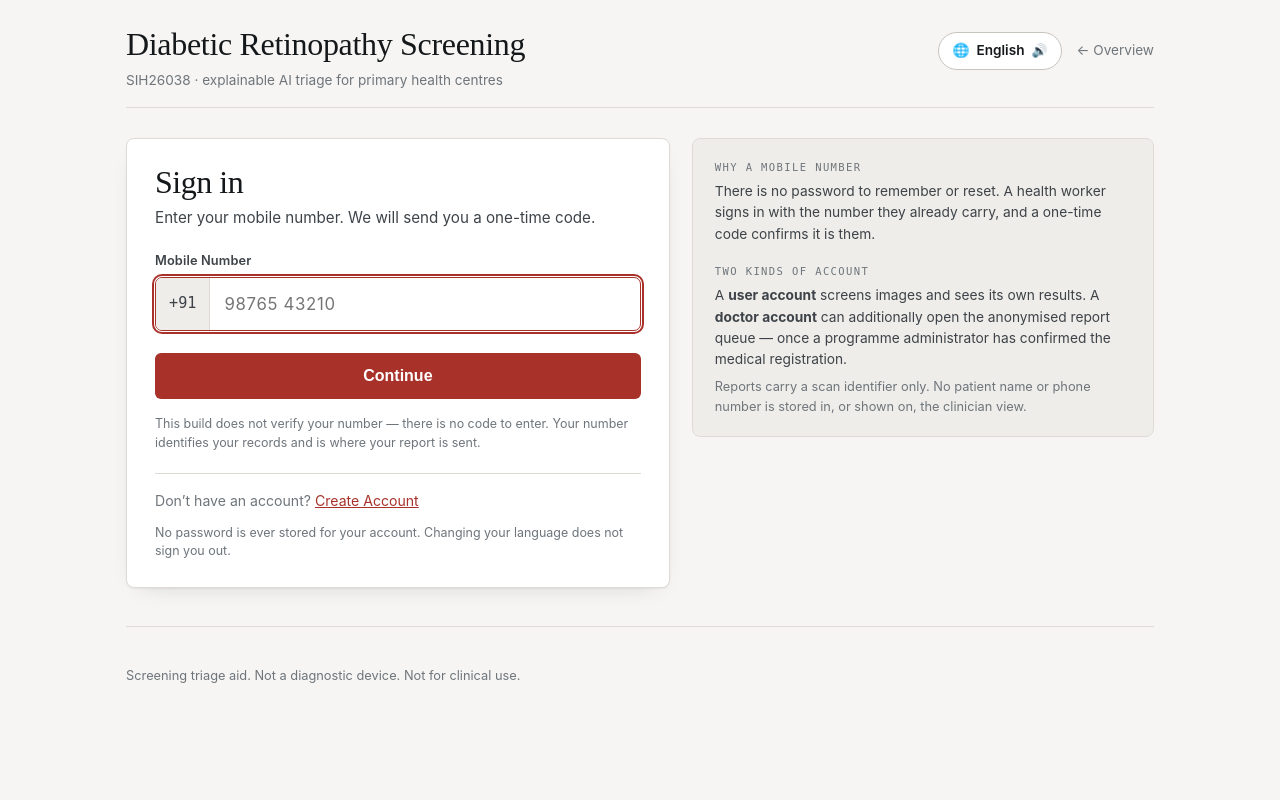
error states › says the backend is unreachable when the request cannot connect
The width and height of the screenshot is (1280, 800).
Type "9876543210" into the field with placeholder "98765 43210" at [425, 304], box [210,278,640,330]
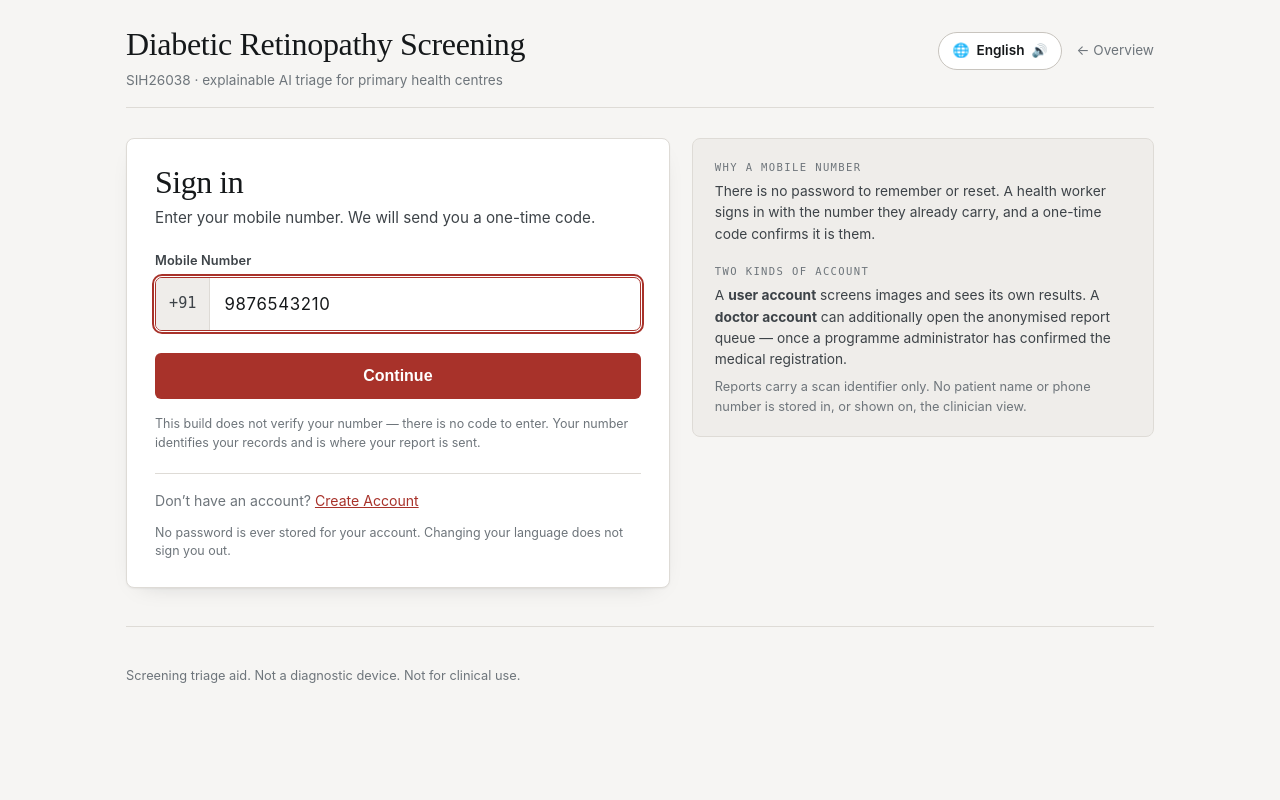
Click the button "Continue" at [398, 376], box [155,353,641,399]
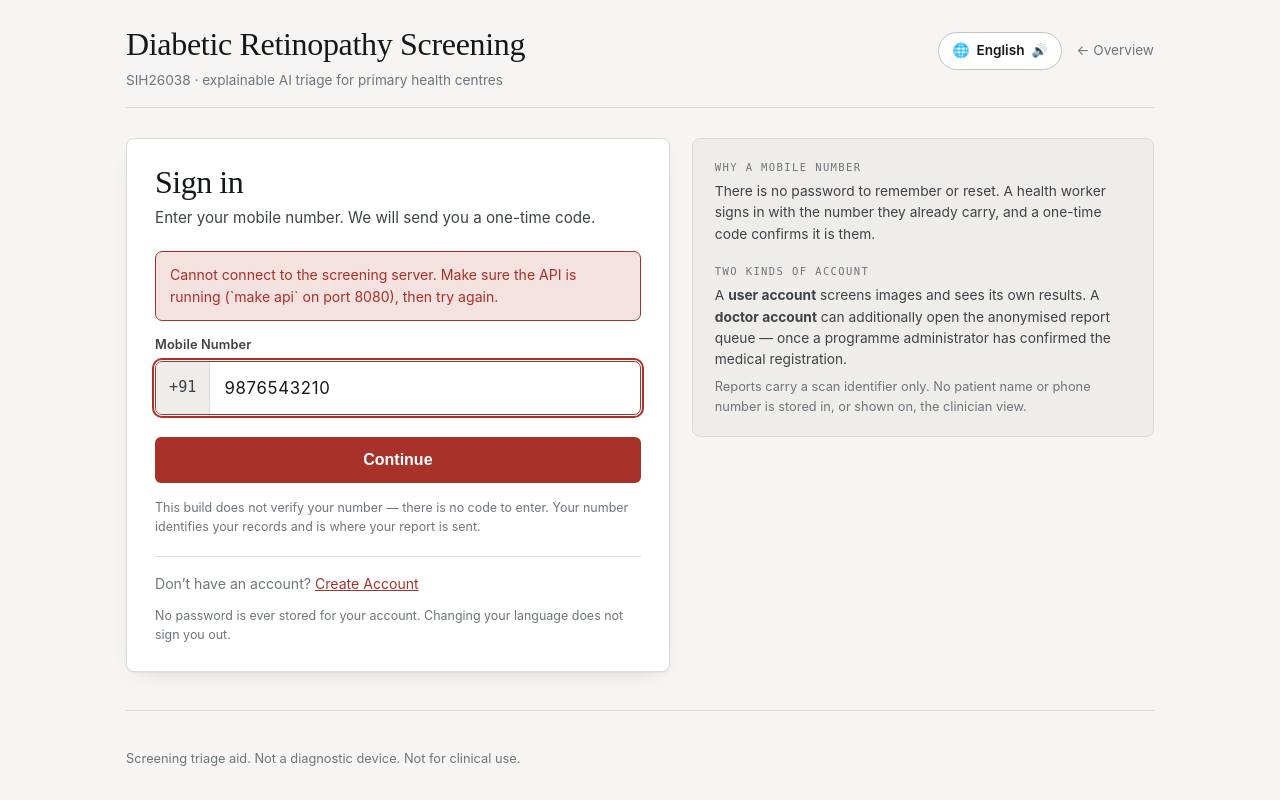
Result: the text "Cannot connect to the screening server" is shown at [170,266,576,305]
